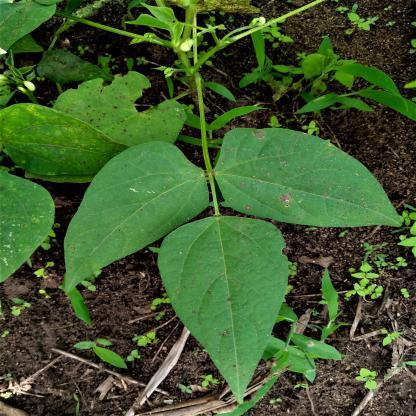Beans_Angular_LeafSpot: (160, 227, 295, 386), (221, 122, 394, 224), (45, 72, 181, 144)
